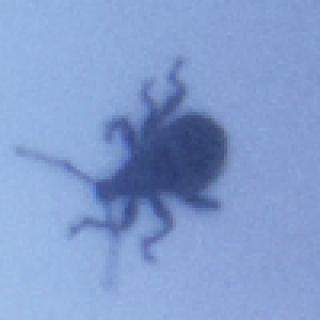bvw: (13, 56, 232, 290)
